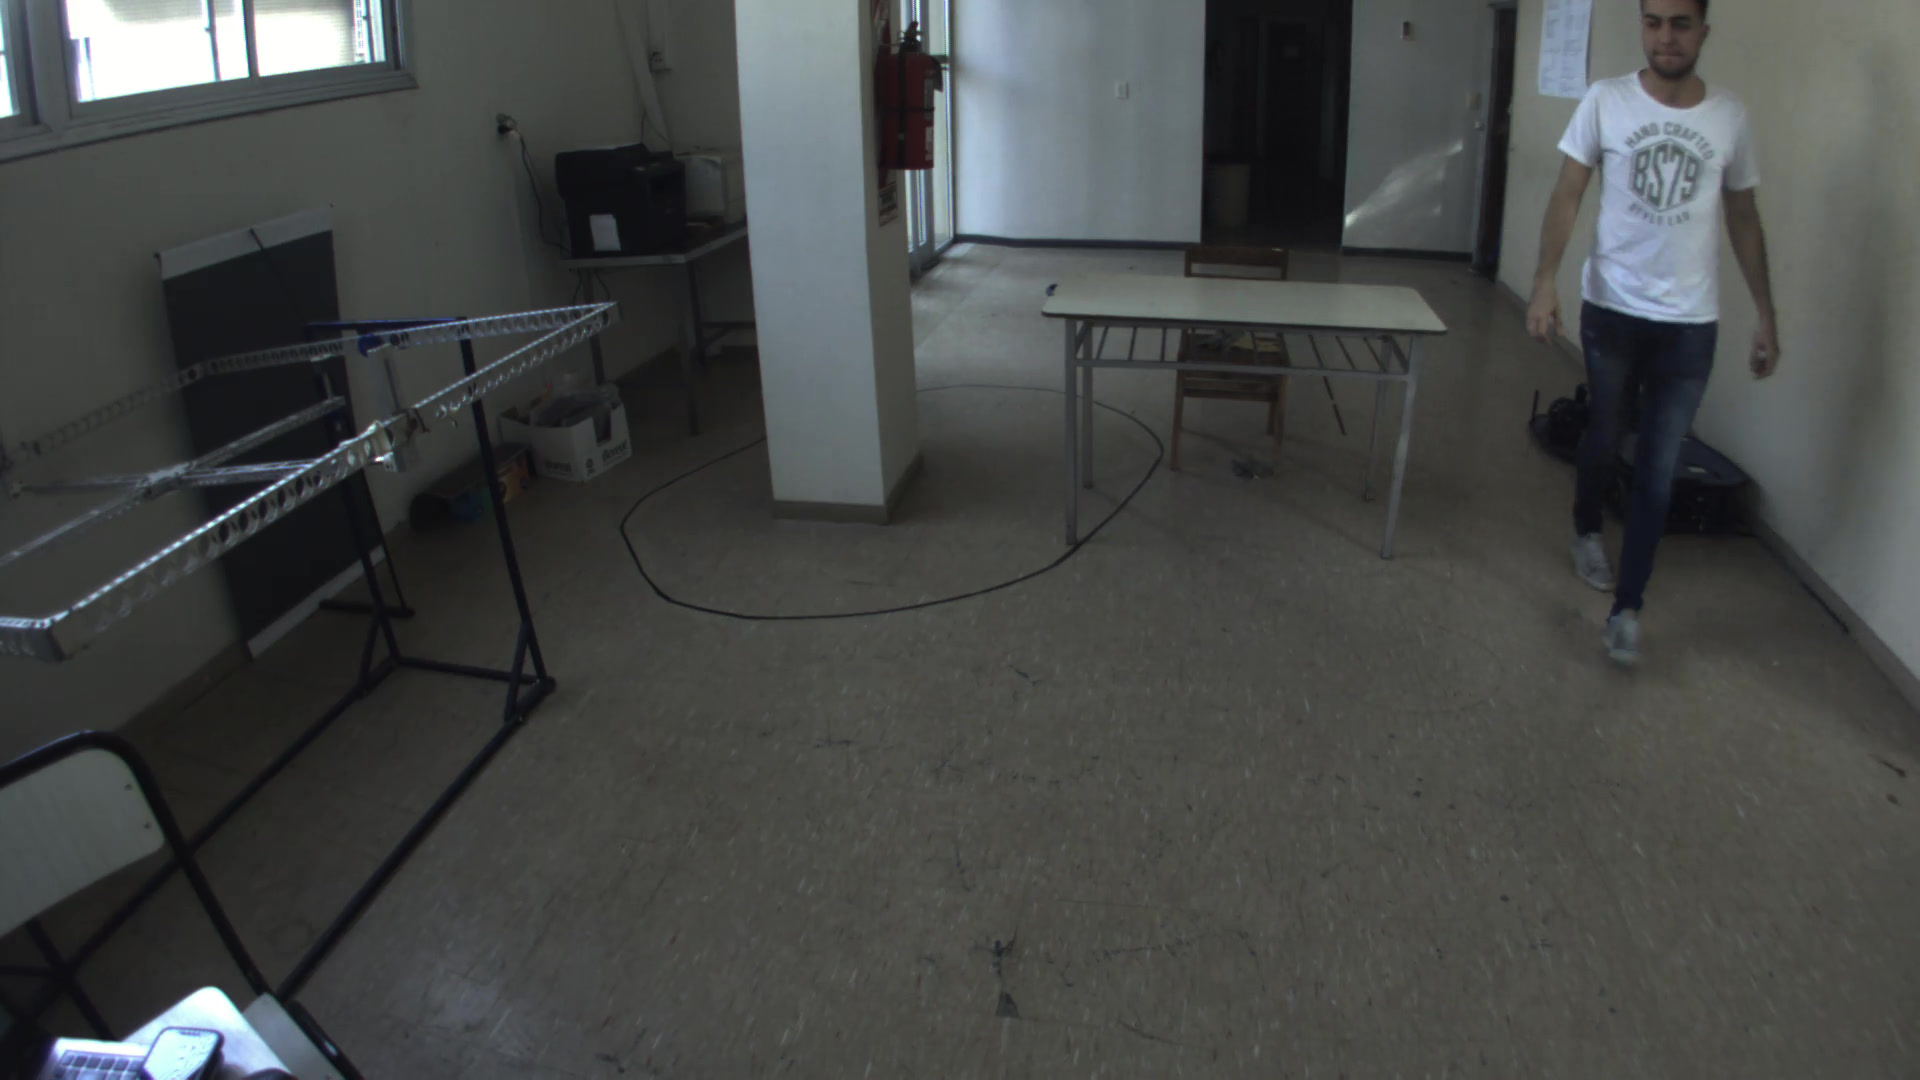hand: (1520, 280, 1578, 349), (1738, 315, 1787, 382)
